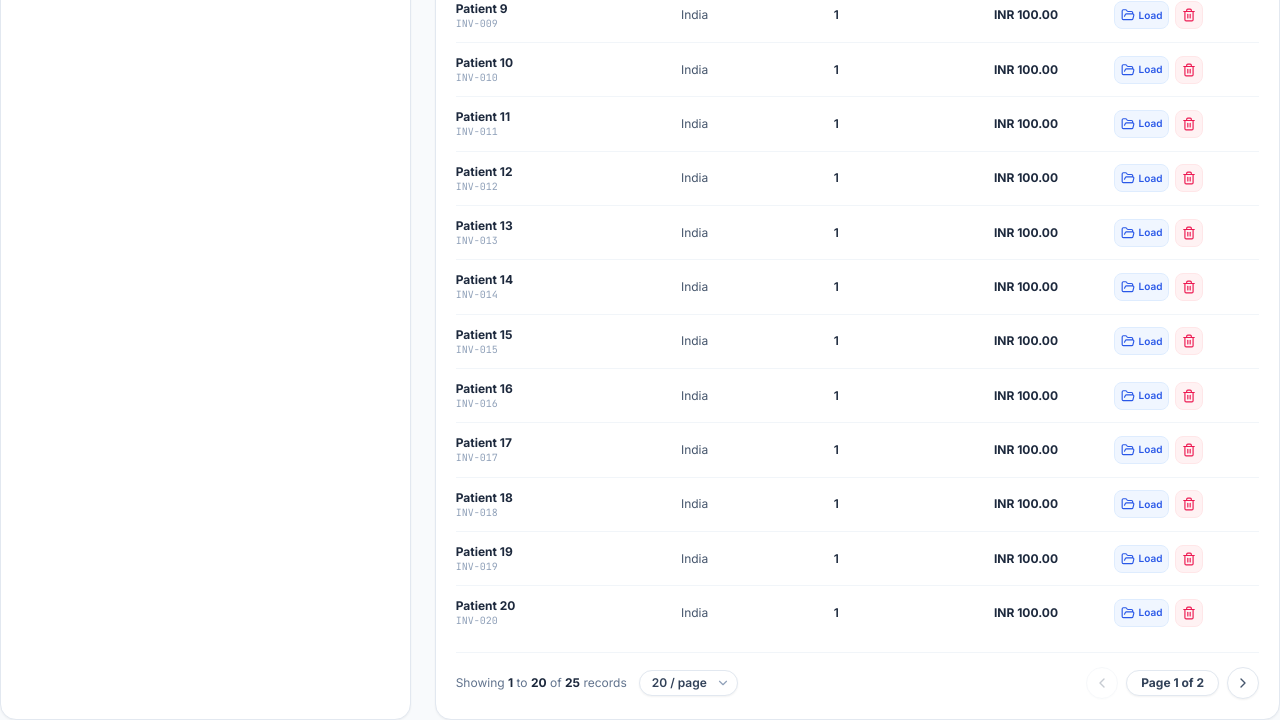
Test: DashboardPage › paginates saved drafts when there are more than page size
(page scrolled)
Expected: the text "Patient 20" is shown, [456,598,516,613]
Expected: the text "Patient 21" is not shown
Note: Click next page
Step 1. Click the button titled "Next page" → click(1243, 683), box [1227,667,1259,699]
(page scrolled)
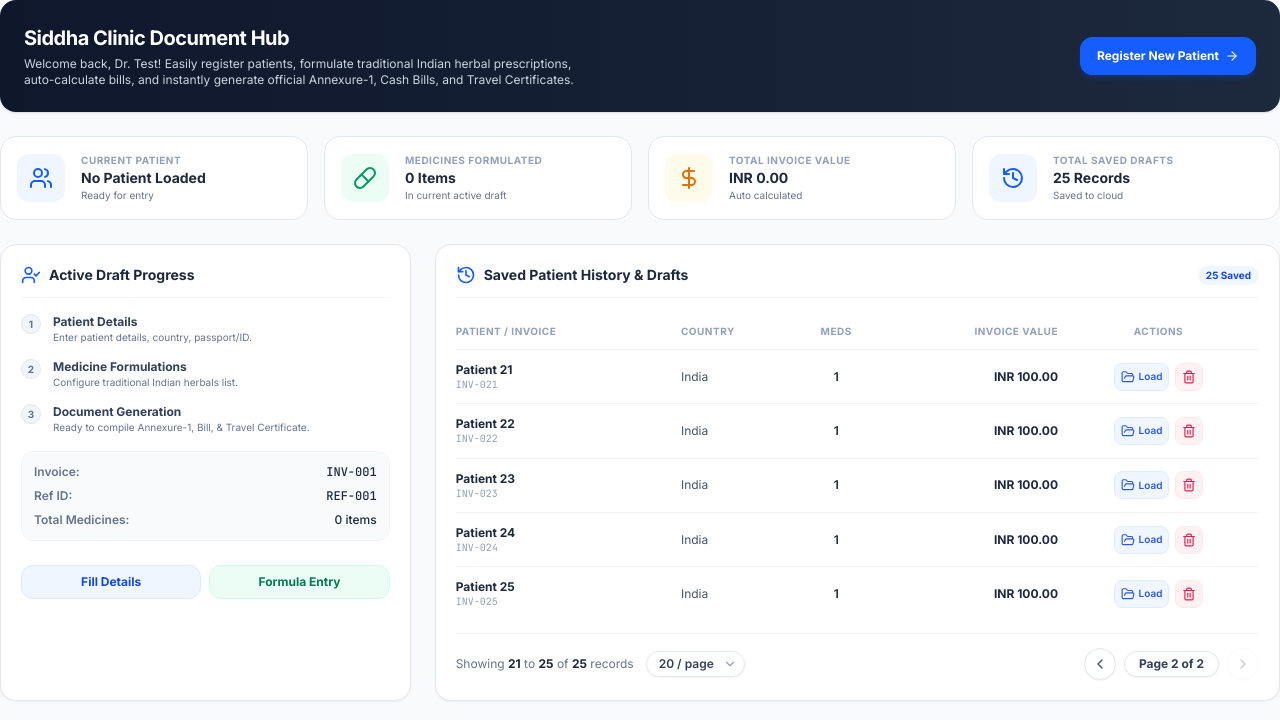
Result: the text "Patient 21" is shown at [456,362,512,377]
Result: the text "Patient 25" is shown at [456,579,515,594]
Result: the text "Patient 1" is gone
